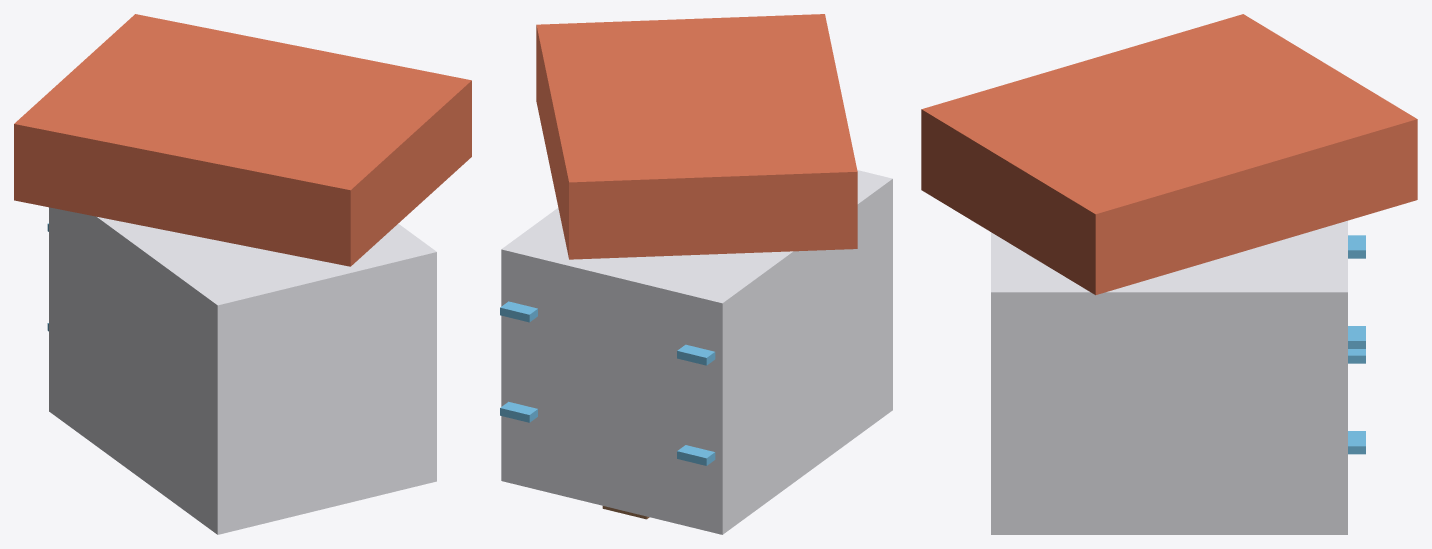
File: lighthouse.glb
3 renders of one model, left to right at view 1: azimuth 30°, elevation 25°; view 2: azimuth 150°, elevation 25°; view 3: azimuth 270°, elevation 25°, orthographic. The views are drawn at different scales.
Visible parts, largest first — view 1: Cube, Cube.001; view 2: Cube, Cube.001, Cube.003, Cube.004, Cube.005, Cube.006; view 3: Cube, Cube.001.
Part boxes in pixels (<box>): Cube: <box>49,207,436,534</box>; Cube.001: <box>14,14,471,266</box>; Cube: <box>501,170,892,534</box>; Cube.001: <box>536,14,857,259</box>; Cube.003: <box>677,445,715,465</box>; Cube.004: <box>677,344,715,365</box>; Cube.005: <box>500,401,537,422</box>; Cube.006: <box>500,301,537,322</box>; Cube: <box>991,220,1347,534</box>; Cube.001: <box>921,14,1417,295</box>.
Size of the model in its own units: 5.31 by 4.7 by 5.55.
